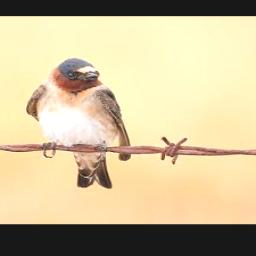Swallow: (26, 56, 132, 189)
